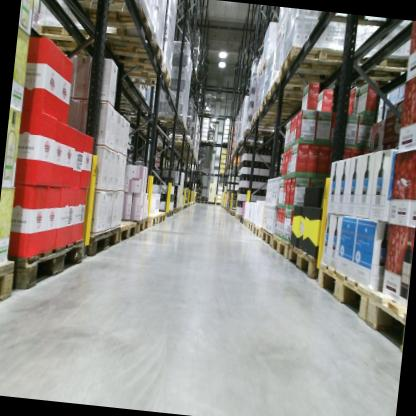pallet: (3, 229, 86, 296), (310, 258, 374, 329), (277, 41, 357, 93), (71, 0, 159, 46), (361, 286, 408, 356), (30, 13, 98, 60), (98, 29, 166, 70), (349, 49, 410, 86), (316, 11, 403, 34), (84, 220, 124, 262), (119, 58, 172, 89), (261, 89, 318, 115), (266, 74, 319, 101), (285, 243, 322, 279), (0, 256, 20, 303), (254, 102, 296, 123), (249, 115, 294, 133), (152, 107, 186, 128), (115, 220, 138, 249), (270, 233, 292, 261), (159, 116, 189, 136), (123, 213, 149, 236), (242, 126, 276, 141), (259, 225, 275, 249), (170, 134, 192, 147), (237, 140, 264, 150), (146, 211, 160, 227), (156, 208, 174, 220), (251, 222, 262, 238), (246, 218, 254, 234), (158, 210, 165, 223), (242, 216, 249, 227), (233, 211, 241, 220), (239, 213, 245, 224), (203, 108, 210, 116), (172, 206, 179, 213), (206, 140, 214, 145), (219, 170, 226, 175), (199, 139, 207, 143), (198, 168, 204, 173), (221, 141, 228, 145), (200, 200, 207, 204), (207, 200, 214, 204), (177, 206, 182, 211), (195, 199, 201, 203), (216, 202, 221, 205)
